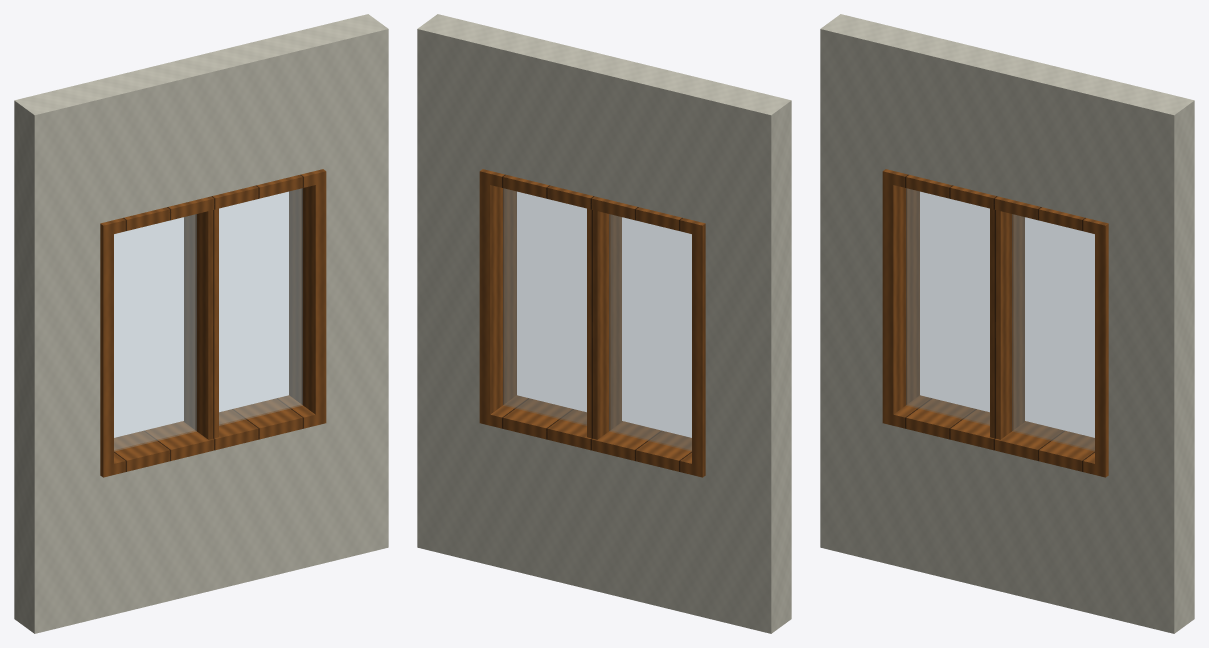
The model's file is window_double.glb.
3 views of the same model, side by side, from view 1: azimuth 30°, elevation 25°; view 2: azimuth 150°, elevation 25°; view 3: azimuth 330°, elevation 25° (orthographic).
Visible parts, largest first — view 1: window_double_Left, window_double_Right, window_double_Header, window_double_SillWall, window_double_GlassR, window_double_GlassL, window_double_FrameR, window_double_Mullion, window_double_FrameB, window_double_FrameL, window_double_FrameT; view 2: window_double_Left, window_double_Right, window_double_Header, window_double_SillWall, window_double_GlassR, window_double_GlassL, window_double_FrameR, window_double_Mullion, window_double_FrameB, window_double_FrameL, window_double_FrameT; view 3: window_double_Right, window_double_Left, window_double_Header, window_double_SillWall, window_double_GlassL, window_double_GlassR, window_double_FrameL, window_double_Mullion, window_double_FrameB, window_double_FrameR, window_double_FrameT.
Part boxes in pixels (left/top/right/bottom): window_double_Left: left=14, top=83, right=105, bottom=633; window_double_Right: left=298, top=14, right=388, bottom=564; window_double_Header: left=85, top=31, right=317, bottom=221; window_double_SillWall: left=105, top=425, right=317, bottom=616; window_double_GlassR: left=219, top=188, right=302, bottom=425; window_double_GlassL: left=114, top=214, right=196, bottom=451; window_double_FrameR: left=289, top=169, right=326, bottom=425; window_double_Mullion: left=184, top=208, right=218, bottom=439; window_double_FrameB: left=114, top=395, right=315, bottom=474; window_double_FrameL: left=100, top=221, right=113, bottom=477; window_double_FrameT: left=111, top=171, right=315, bottom=233; window_double_Left: left=700, top=83, right=791, bottom=633; window_double_Right: left=417, top=14, right=507, bottom=564; window_double_Header: left=488, top=31, right=720, bottom=221; window_double_SillWall: left=488, top=425, right=700, bottom=616; window_double_GlassR: left=503, top=188, right=586, bottom=425; window_double_GlassL: left=609, top=214, right=691, bottom=451; window_double_FrameR: left=479, top=169, right=516, bottom=425; window_double_Mullion: left=587, top=208, right=621, bottom=439; window_double_FrameB: left=490, top=395, right=691, bottom=474; window_double_FrameL: left=692, top=221, right=705, bottom=477; window_double_FrameT: left=490, top=171, right=694, bottom=233; window_double_Right: left=1103, top=83, right=1194, bottom=633; window_double_Left: left=820, top=14, right=910, bottom=564; window_double_Header: left=891, top=31, right=1123, bottom=221; window_double_SillWall: left=891, top=425, right=1103, bottom=616; window_double_GlassL: left=906, top=188, right=989, bottom=425; window_double_GlassR: left=1012, top=214, right=1094, bottom=451; window_double_FrameL: left=882, top=169, right=919, bottom=425; window_double_Mullion: left=990, top=208, right=1024, bottom=439; window_double_FrameB: left=893, top=395, right=1094, bottom=474; window_double_FrameR: left=1095, top=221, right=1108, bottom=477; window_double_FrameT: left=893, top=171, right=1097, bottom=233.
Size of the model in its own units: 2 by 2.8 by 0.26.
Materials: 3 (2 with a texture image).
